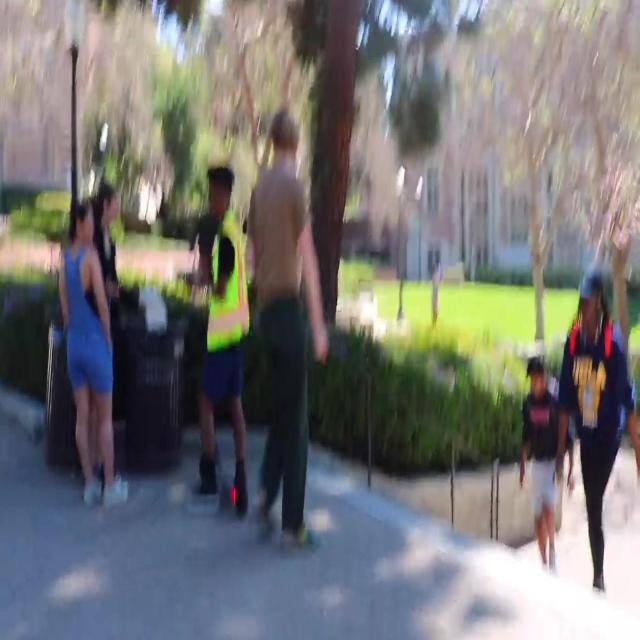Vest: (204, 212, 249, 350)
